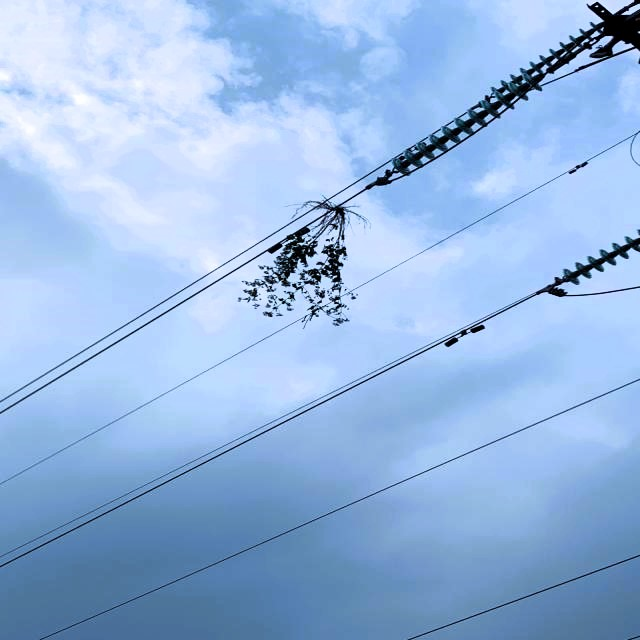wire foreign body: (258, 180, 364, 326)
